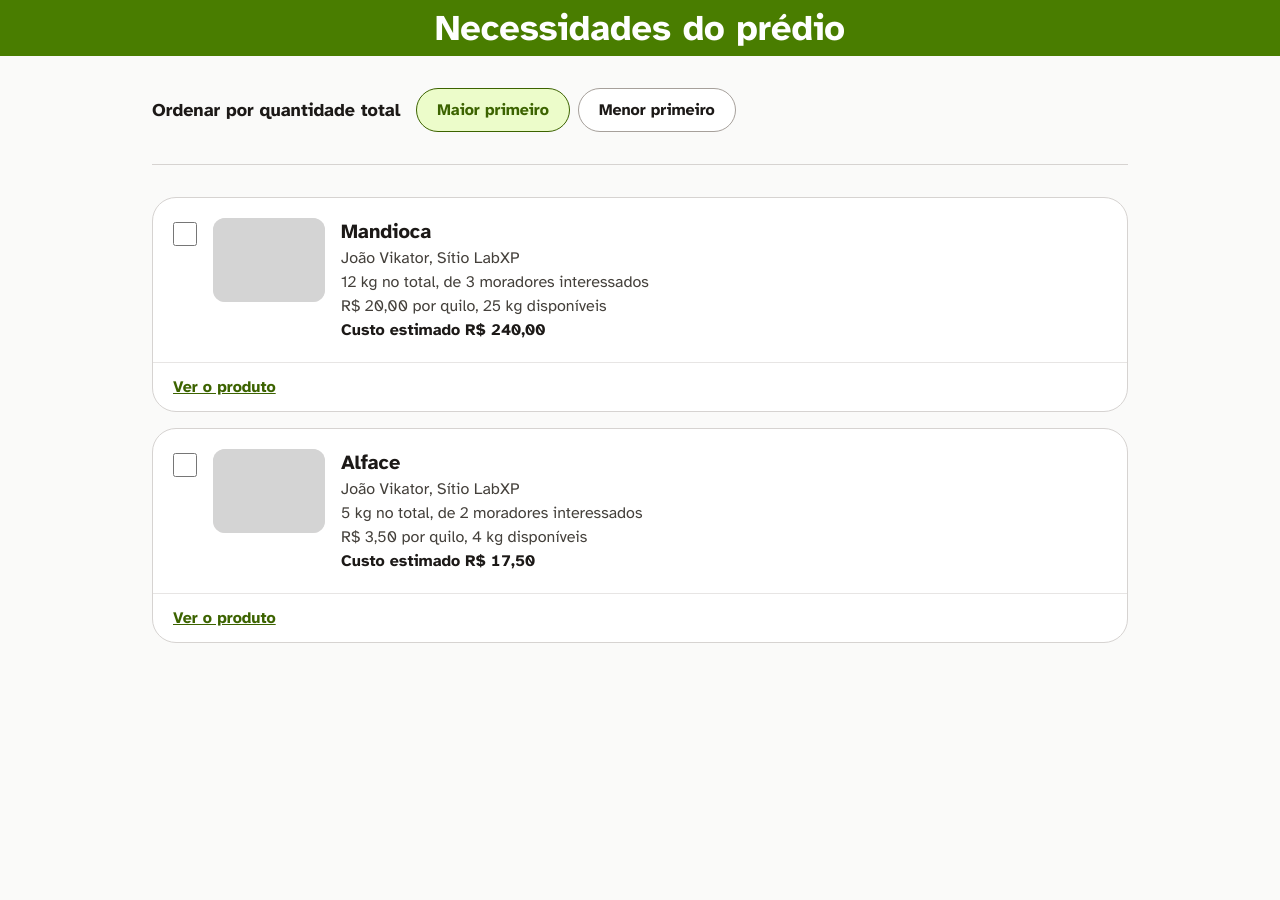
Test: BuildingNeeds rows › selects the need by a click anywhere on the row
Click the text "12 kg no total, de 3 moradores interessados". click: coordinates (495, 282)
box: [341,272,649,292]
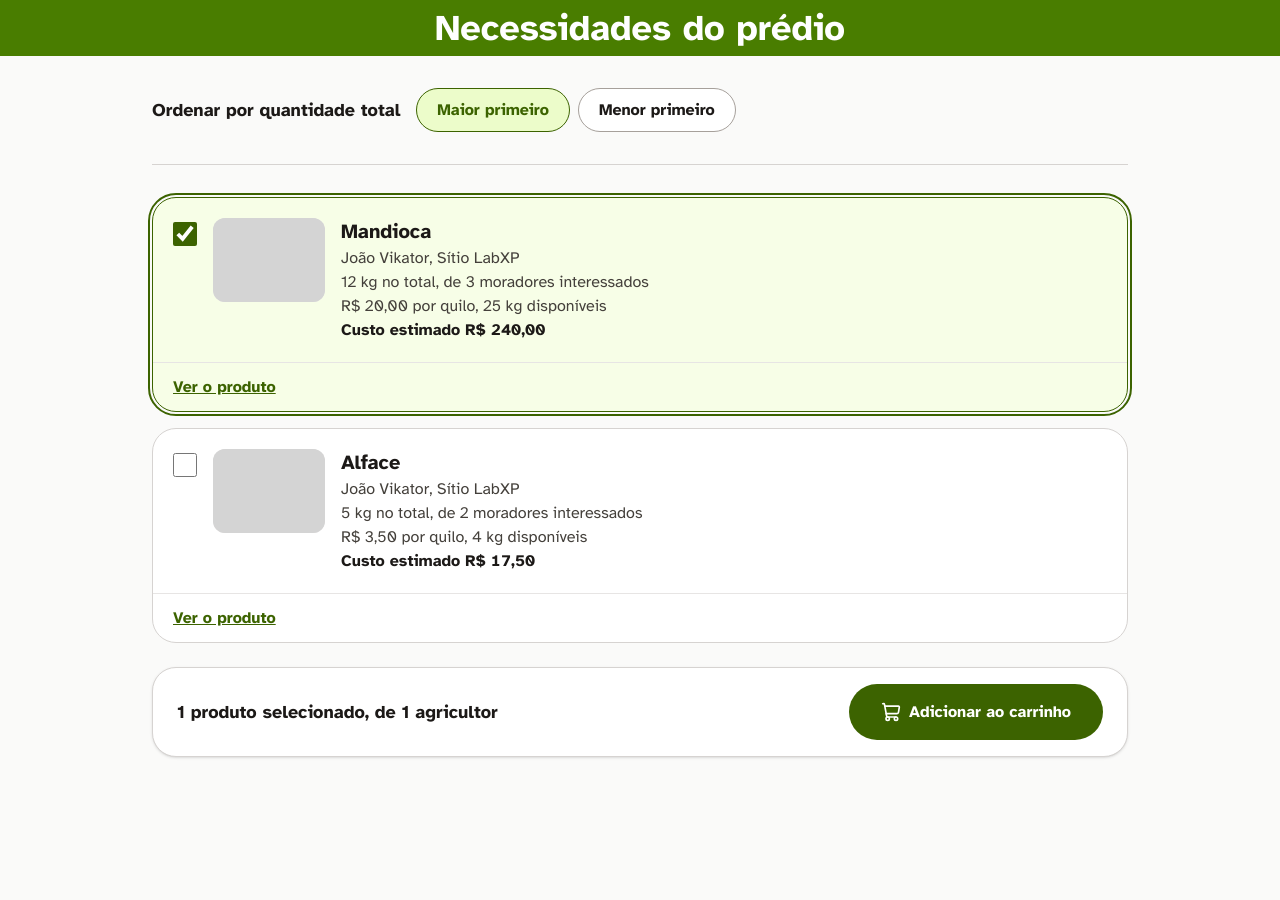
Now the checkbox named "Selecionar Mandioca de João Vikator, Sítio LabXP" is checked, box [173,222,197,246]
Click the heading "Mandioca". click: coordinates (386, 232)
box: [341,219,431,244]
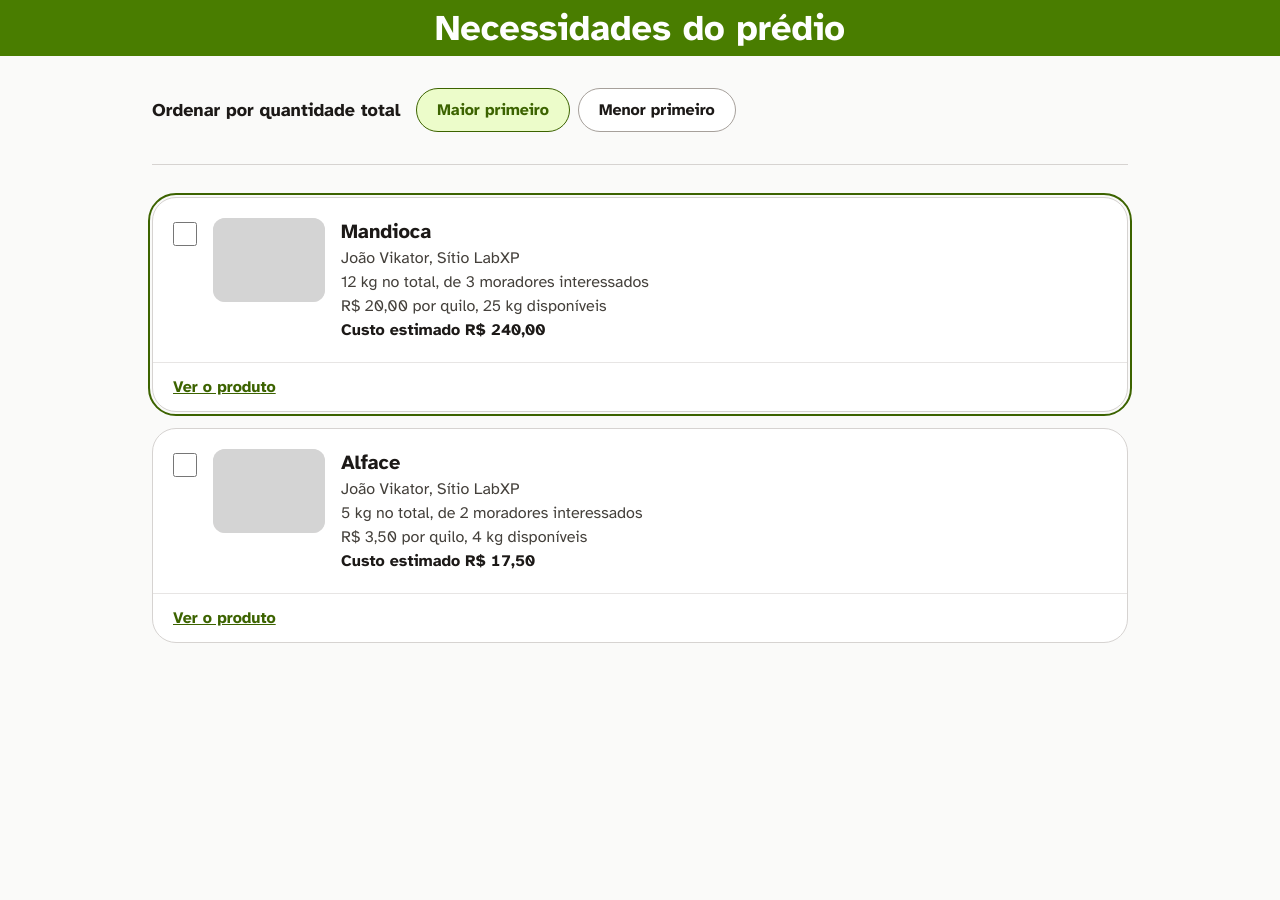
Now the checkbox named "Selecionar Mandioca de João Vikator, Sítio LabXP" is not checked, box [173,222,197,246]
